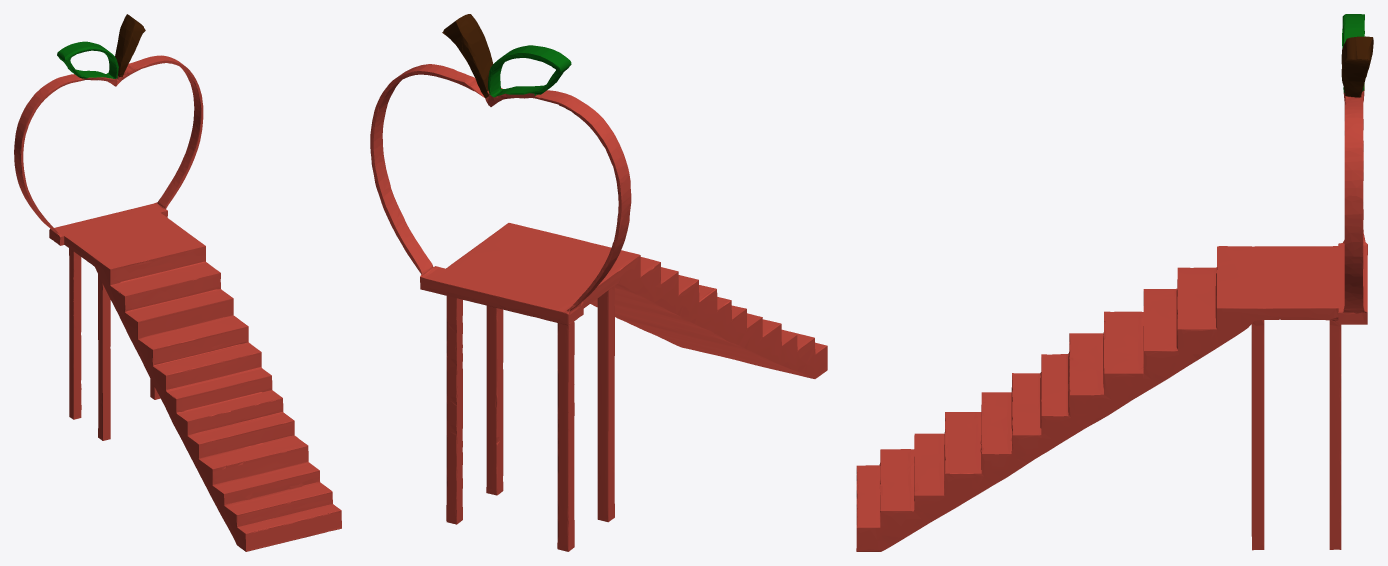
Rendered from apple_stair.fbx.
3 views of the same model, side by side, from view 1: azimuth 30°, elevation 25°; view 2: azimuth 150°, elevation 25°; view 3: azimuth 270°, elevation 25° (orthographic). The views are drawn at different scales.
Visible parts, largest first — view 1: temp, temp.002, temp.001; view 2: temp, temp.001, temp.002; view 3: temp, temp.001.
Part boxes in pixels (bbox=[...]): temp: bbox=[14, 55, 341, 551]; temp.002: bbox=[57, 41, 118, 78]; temp.001: bbox=[115, 14, 145, 77]; temp: bbox=[370, 64, 827, 551]; temp.001: bbox=[442, 14, 492, 98]; temp.002: bbox=[488, 45, 571, 97]; temp: bbox=[856, 84, 1367, 551]; temp.001: bbox=[1341, 36, 1373, 97].
Size of the model in its own units: 101 by 200 by 187.
